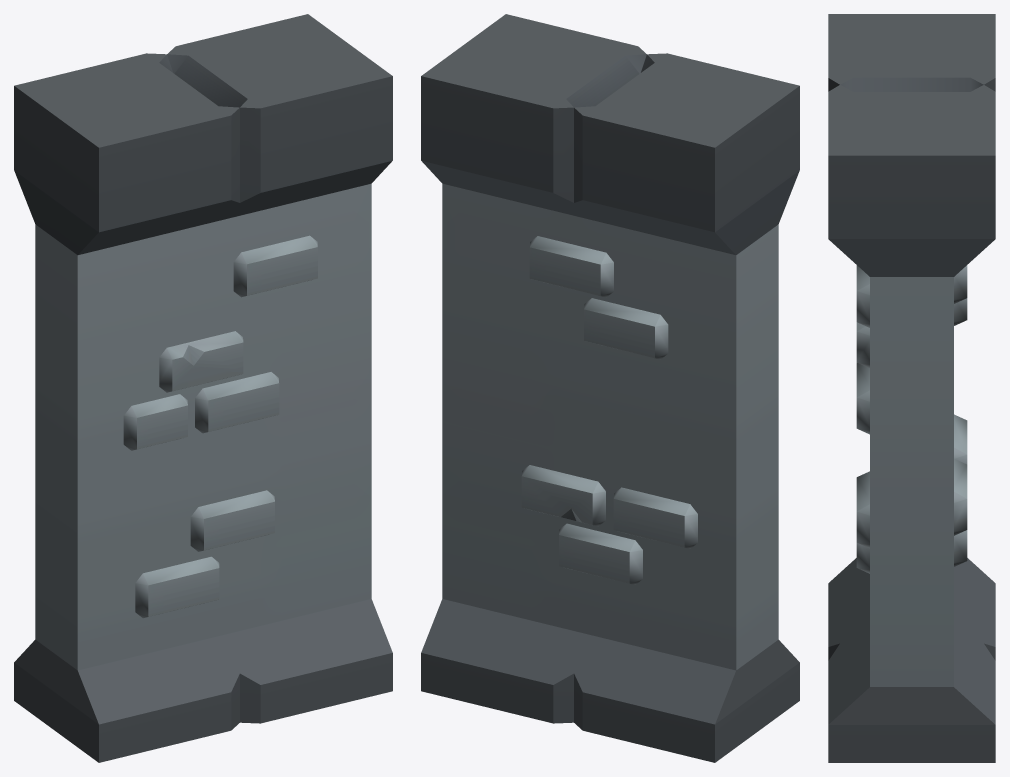
Rendered from wall_half.glb.
The picture shows the model from 3 angles, left to right: view 1: azimuth 30°, elevation 25°; view 2: azimuth 150°, elevation 25°; view 3: azimuth 270°, elevation 25°; orthographic projection.
Parts seen in each view (by area): view 1: wall_half; view 2: wall_half; view 3: wall_half.
Boxes of the visible parts, bbox=[...] form: wall_half: bbox=[14, 14, 392, 762]; wall_half: bbox=[421, 14, 799, 762]; wall_half: bbox=[828, 14, 995, 762].
Size of the model in its own units: 2 by 4 by 1.
Materials: 1 (1 with a texture image).
